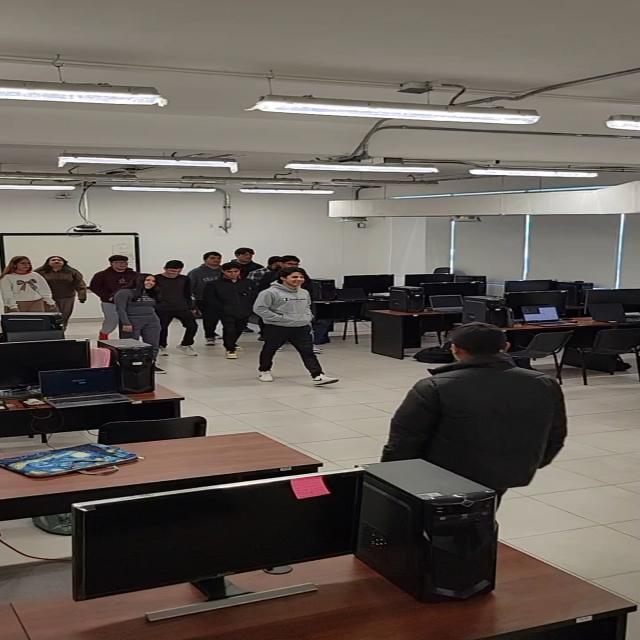Persona: (380, 320, 570, 504), (249, 266, 342, 389), (108, 271, 178, 376), (200, 262, 251, 359), (89, 255, 141, 340), (153, 260, 198, 356), (1, 257, 63, 318), (36, 255, 88, 326), (189, 252, 226, 302), (252, 254, 302, 289), (227, 248, 266, 274)
